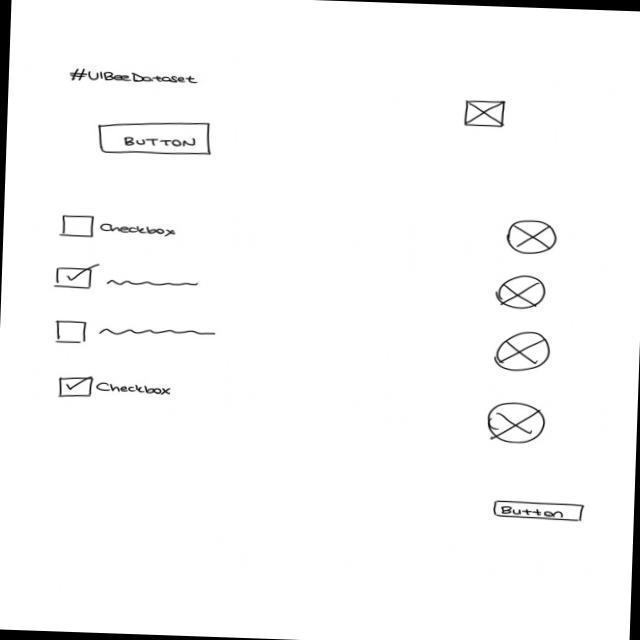button: (96, 119, 214, 159), (492, 500, 587, 524)
checkbox: (54, 319, 218, 351), (53, 262, 200, 295), (61, 214, 181, 243), (56, 375, 175, 404)
image: (486, 402, 548, 447), (493, 331, 553, 375), (504, 219, 559, 257), (495, 274, 547, 311), (464, 99, 507, 130)
label: (66, 66, 201, 90)
